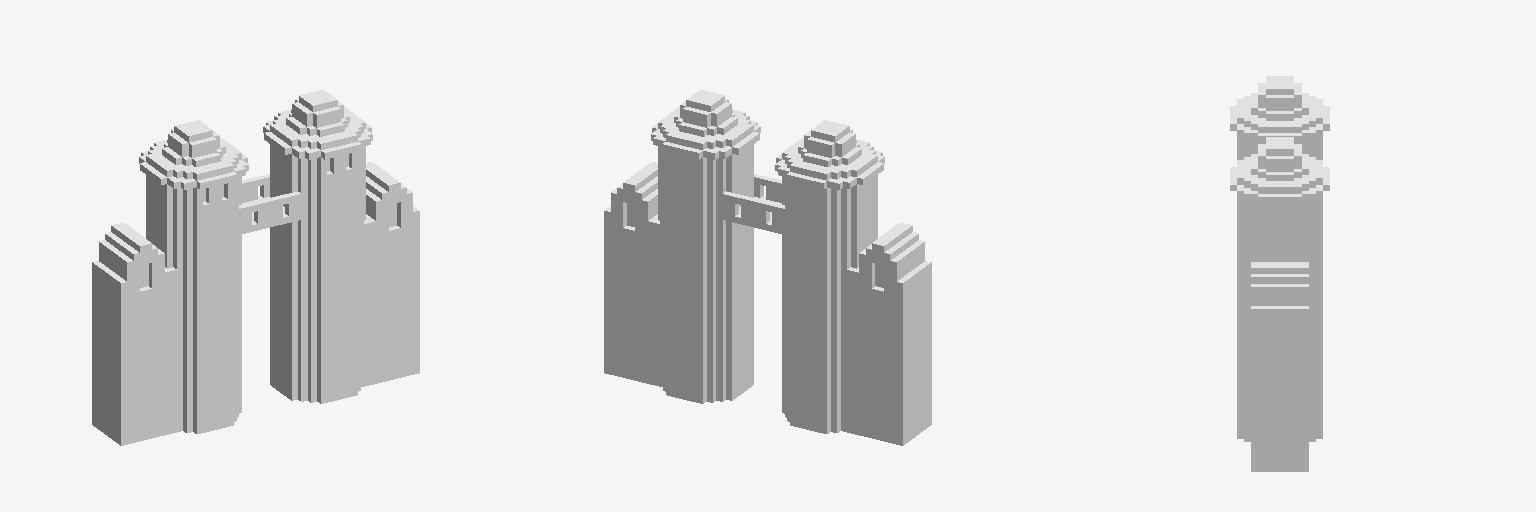
The model's file is Castle_Enter.obj.
The picture shows the model from 3 angles: view 1: azimuth 30°, elevation 25°; view 2: azimuth 150°, elevation 25°; view 3: azimuth 270°, elevation 25°; orthographic projection.
Parts seen in each view (by area): view 1: object 1; view 2: object 1; view 3: object 1.
Boxes of the visible parts, x1,y1,x2,y2 form: object 1: [92, 89, 419, 445]; object 1: [604, 89, 931, 445]; object 1: [1230, 76, 1329, 471].
Size of the model in its own units: 4.8 by 4.4 by 1.4.